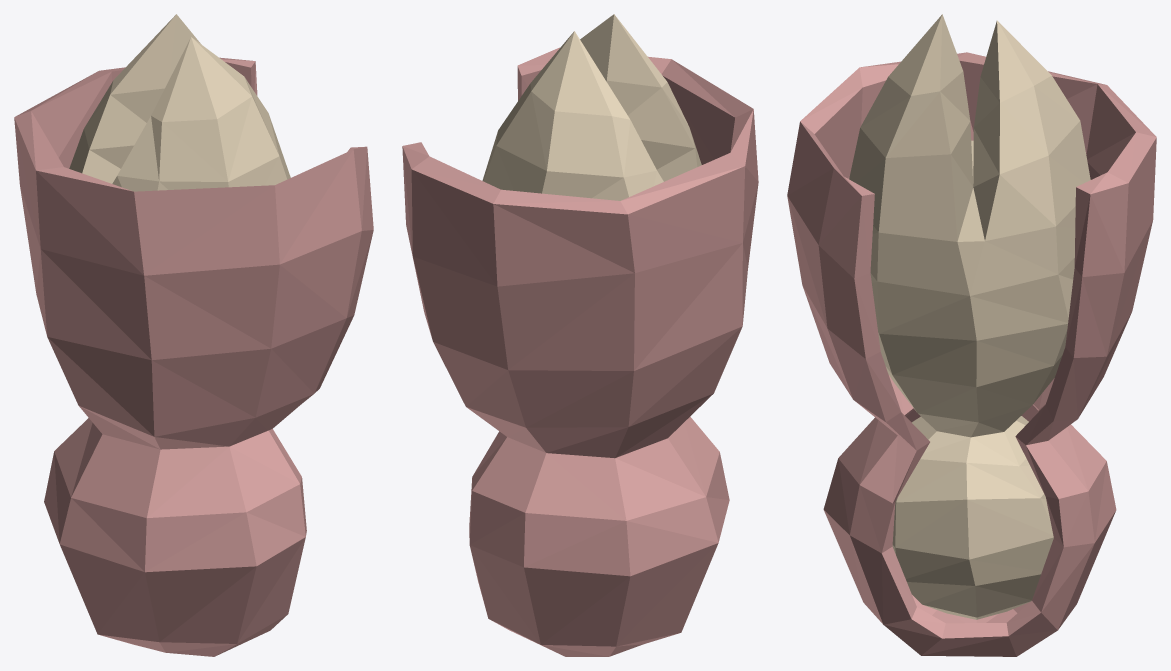
Rendered from MainCharacter.fbx.
3 views of the same model, side by side, from view 1: azimuth 30°, elevation 25°; view 2: azimuth 150°, elevation 25°; view 3: azimuth 270°, elevation 25° (orthographic).
Parts seen in each view (by area): view 1: Cloke, Body; view 2: Cloke, Body; view 3: Body, Cloke.
Boxes of the visible parts, x1,y1,x2,y2 form: Cloke: (14,57,373,656); Body: (69,14,290,191); Cloke: (402,47,758,656); Body: (482,14,701,200); Body: (849,14,1090,619); Cloke: (787,52,1156,656).
Bounding box in the file's own units: 10.13 × 21.35 × 11.4.
